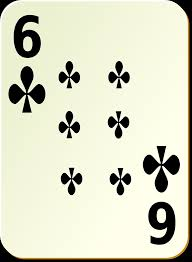six of hearts: (4, 4, 186, 256)
